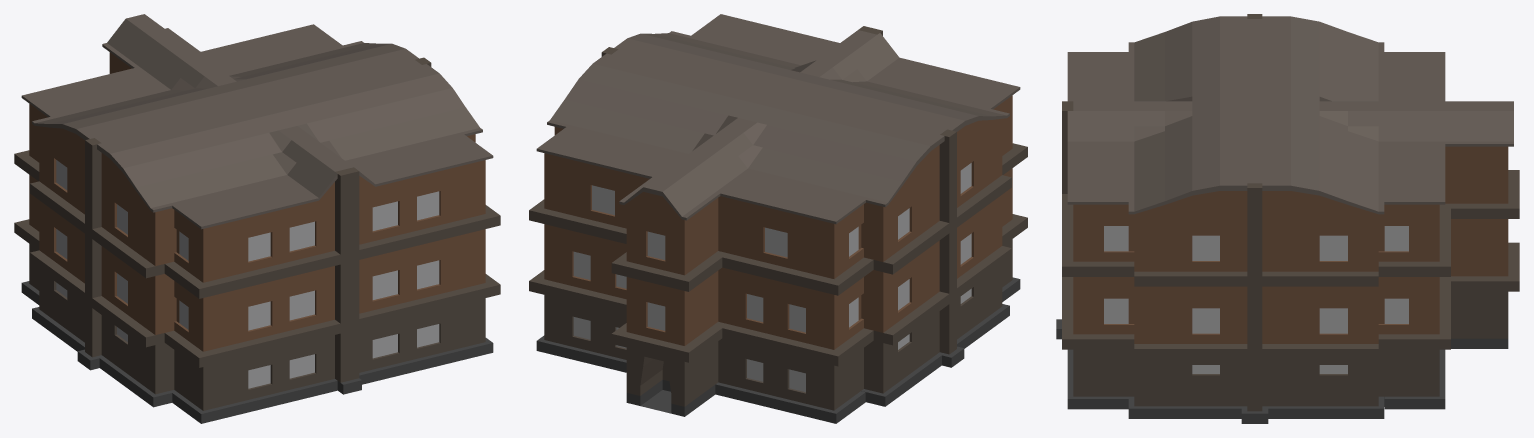
The model's file is House1.fbx.
3 views of the same model, side by side, from view 1: azimuth 30°, elevation 25°; view 2: azimuth 150°, elevation 25°; view 3: azimuth 270°, elevation 25° (orthographic). The views are drawn at different scales.
Parts seen in each view (by area): view 1: Cube; view 2: Cube; view 3: Cube.
Part boxes in pixels (x1,y1,x2,y2): Cube: (14,14,500,423); Cube: (529,14,1027,423); Cube: (1056,14,1519,423).
Bounding box in the file's own units: 3700 × 2250 × 4050.
